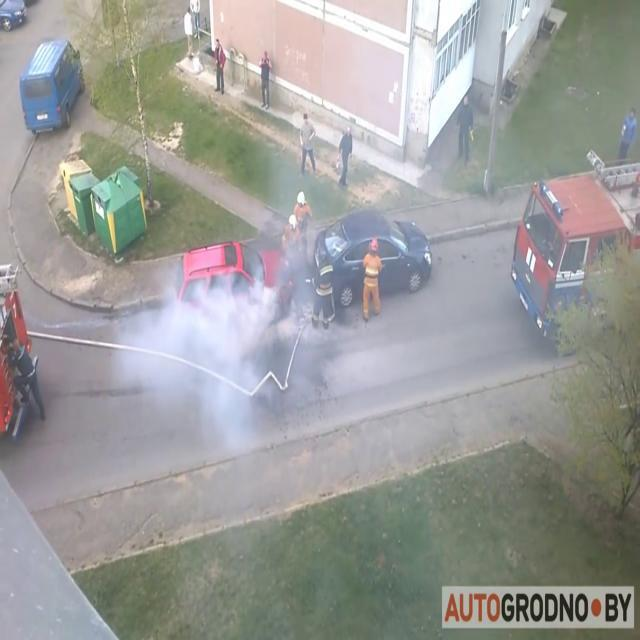Smoke: (122, 251, 346, 640)
